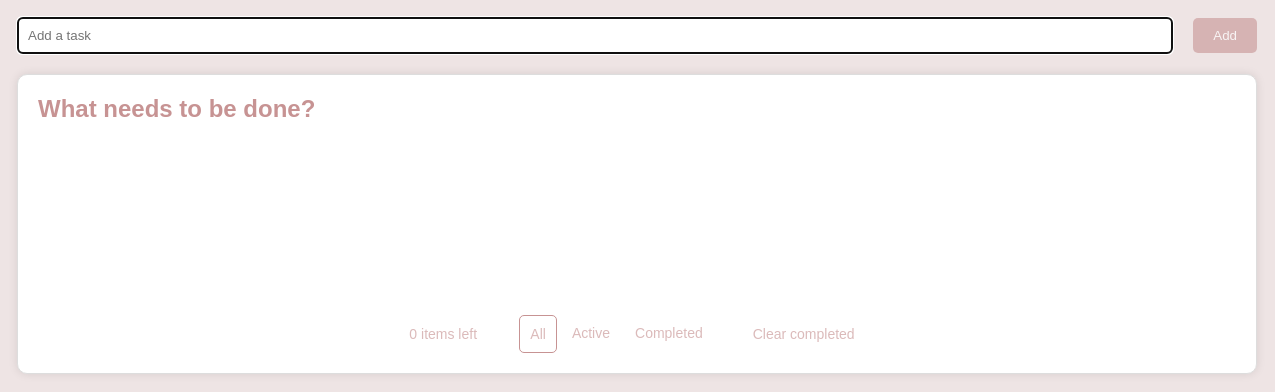
Test: TodosForm › adds todo item
The width and height of the screenshot is (1275, 392).
Step 1. Type "Покрытие тестами" into the field → (595, 36), box x1=17 y1=17 x2=1173 y2=54
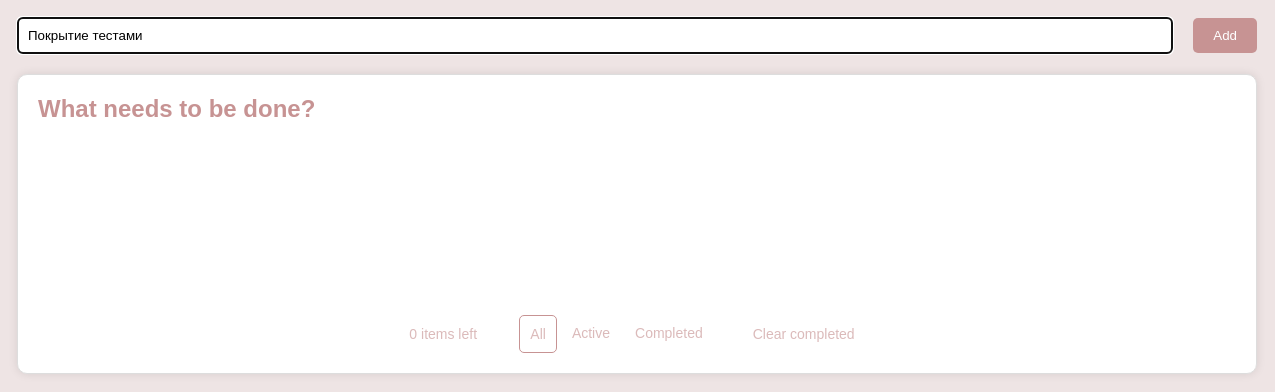
Step 2. Click the button with test id "addsButton" → click(1225, 36), box x1=1193 y1=18 x2=1257 y2=53
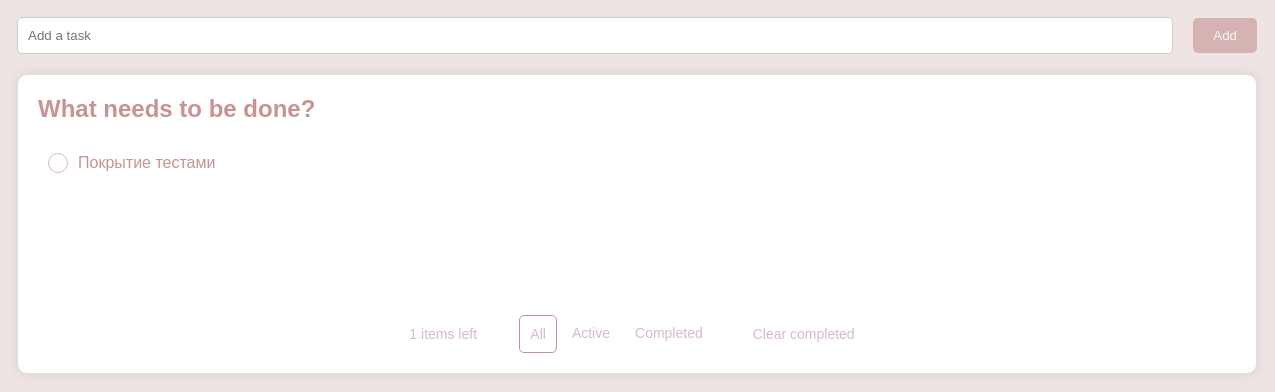
Now the field is empty, box x1=17 y1=17 x2=1173 y2=54
Now the text "Покрытие тестами" is shown, box x1=78 y1=154 x2=215 y2=171
